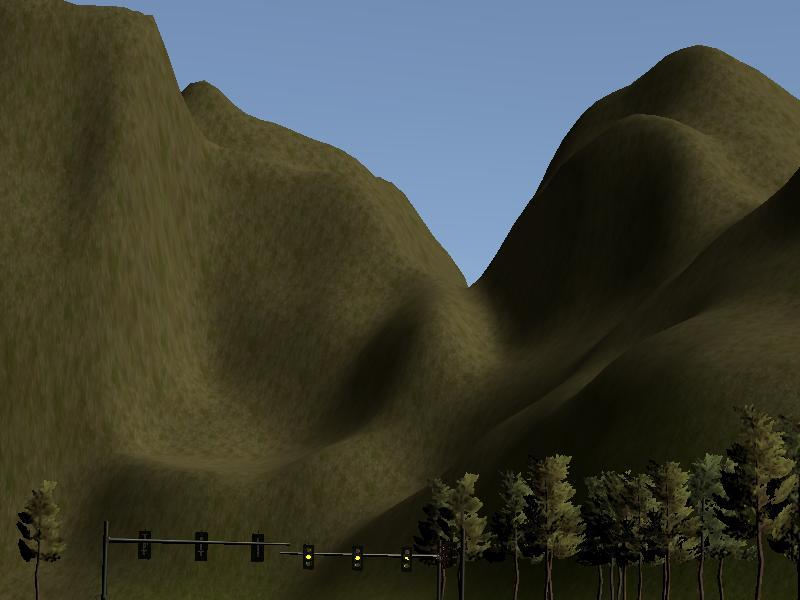Yellow: (303, 545, 315, 571), (352, 546, 364, 572), (401, 547, 412, 573)
